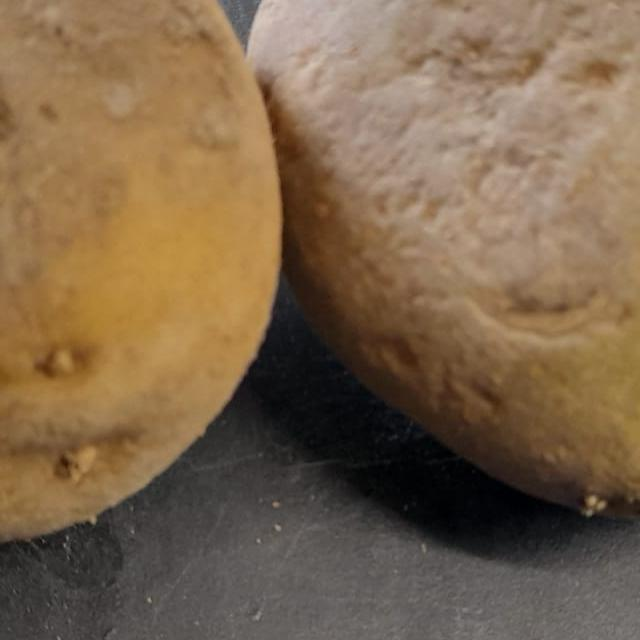potato: (242, 0, 640, 540), (0, 0, 285, 575)
